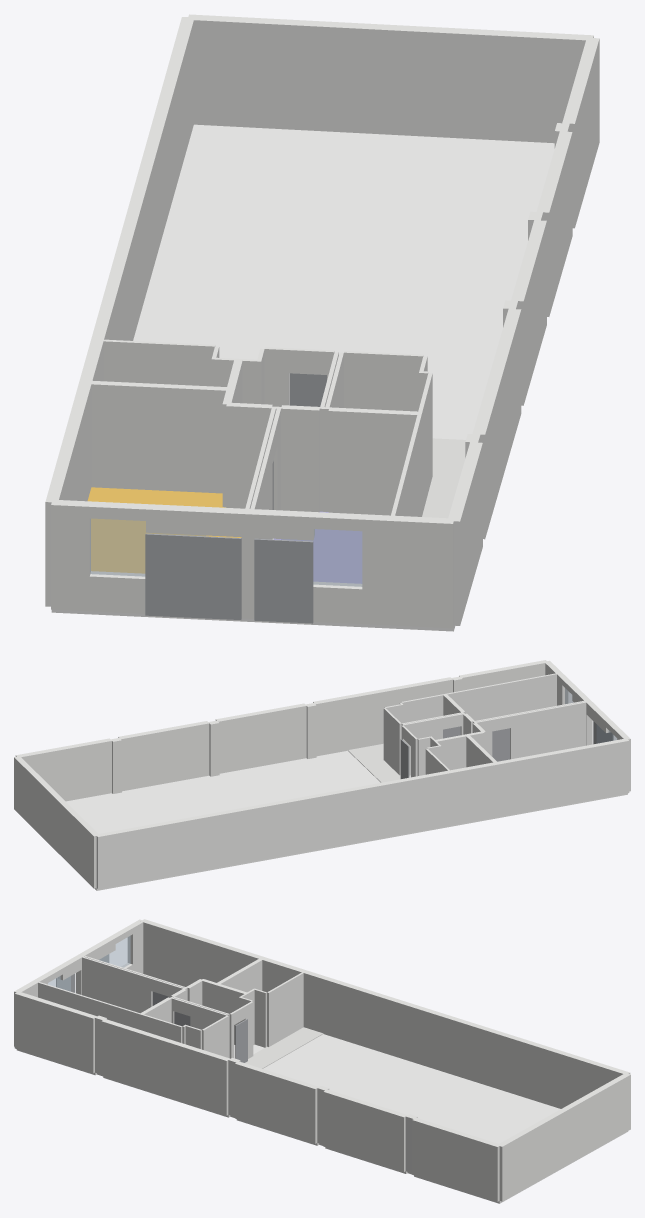
The model's file is D2_warehouse_154822_patio_it1.glb.
3 views of the same model, one above another, from view 1: azimuth 30°, elevation 25°; view 2: azimuth 150°, elevation 25°; view 3: azimuth 270°, elevation 25° (orthographic). The views are drawn at different scales.
Visible parts, largest first — view 1: geometry_3, geometry_0, geometry_9, geometry_8, geometry_6, geometry_5, geometry_1; view 2: geometry_3, geometry_0, geometry_9, geometry_1, geometry_8; view 3: geometry_3, geometry_0, geometry_1, geometry_9, geometry_8.
Part boxes in pixels (x1,y1,x2,y2): geometry_3: (45,14,599,628); geometry_0: (51,124,554,631); geometry_9: (145,373,326,623); geometry_8: (90,518,362,586); geometry_6: (87,487,241,573); geometry_5: (273,511,362,583); geometry_1: (422,438,465,518); geometry_3: (14,660,630,889); geometry_0: (66,750,627,890); geometry_9: (400,721,613,778); geometry_1: (348,743,400,782); geometry_8: (565,688,617,743); geometry_3: (14,919,630,1201); geometry_0: (16,1034,628,1203); geometry_1: (245,1027,323,1068); geometry_9: (56,954,247,1062); geometry_8: (48,936,130,991).
Size of the model in its own units: 24.09 by 2.85 by 27.54.
